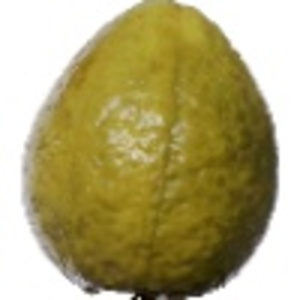goiaba: (12, 1, 281, 297)
